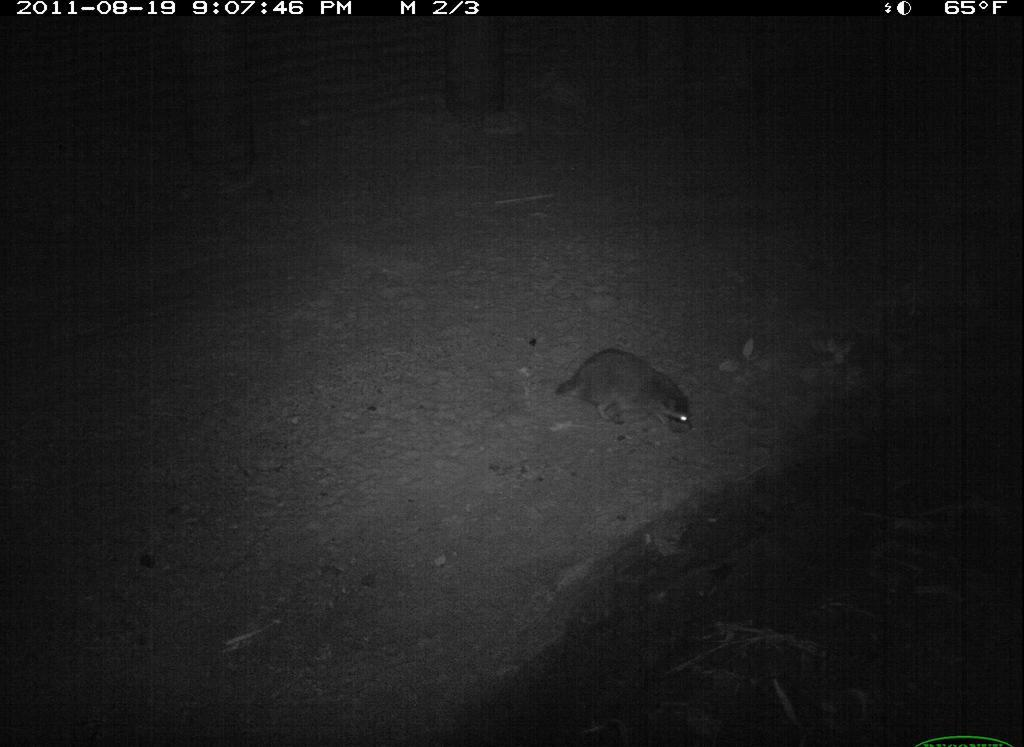raccoon: (555, 337, 703, 450)
